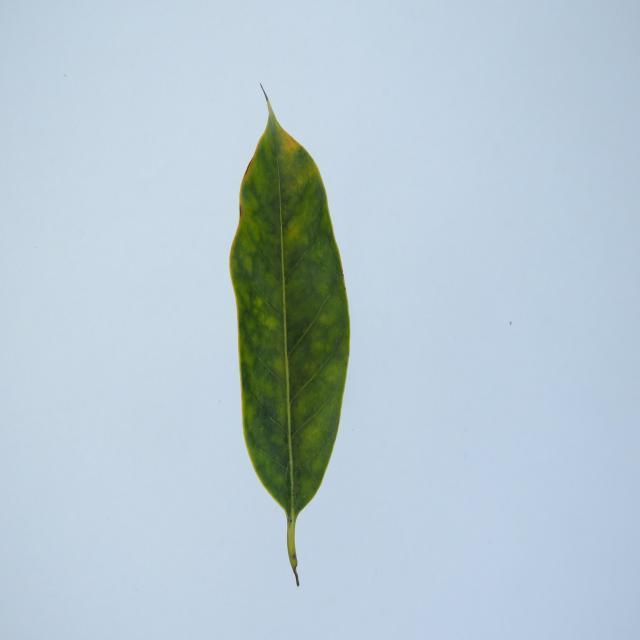DeficienciaNutricional-Nitrogeno: (231, 104, 350, 577)
